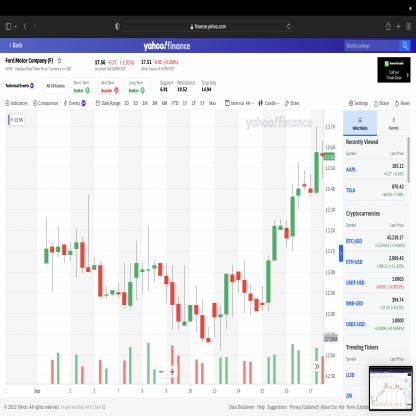Bullish: Inverted Hammer: (175, 264, 194, 333)
Bullish: Morning Star Doji: (211, 270, 230, 352)
